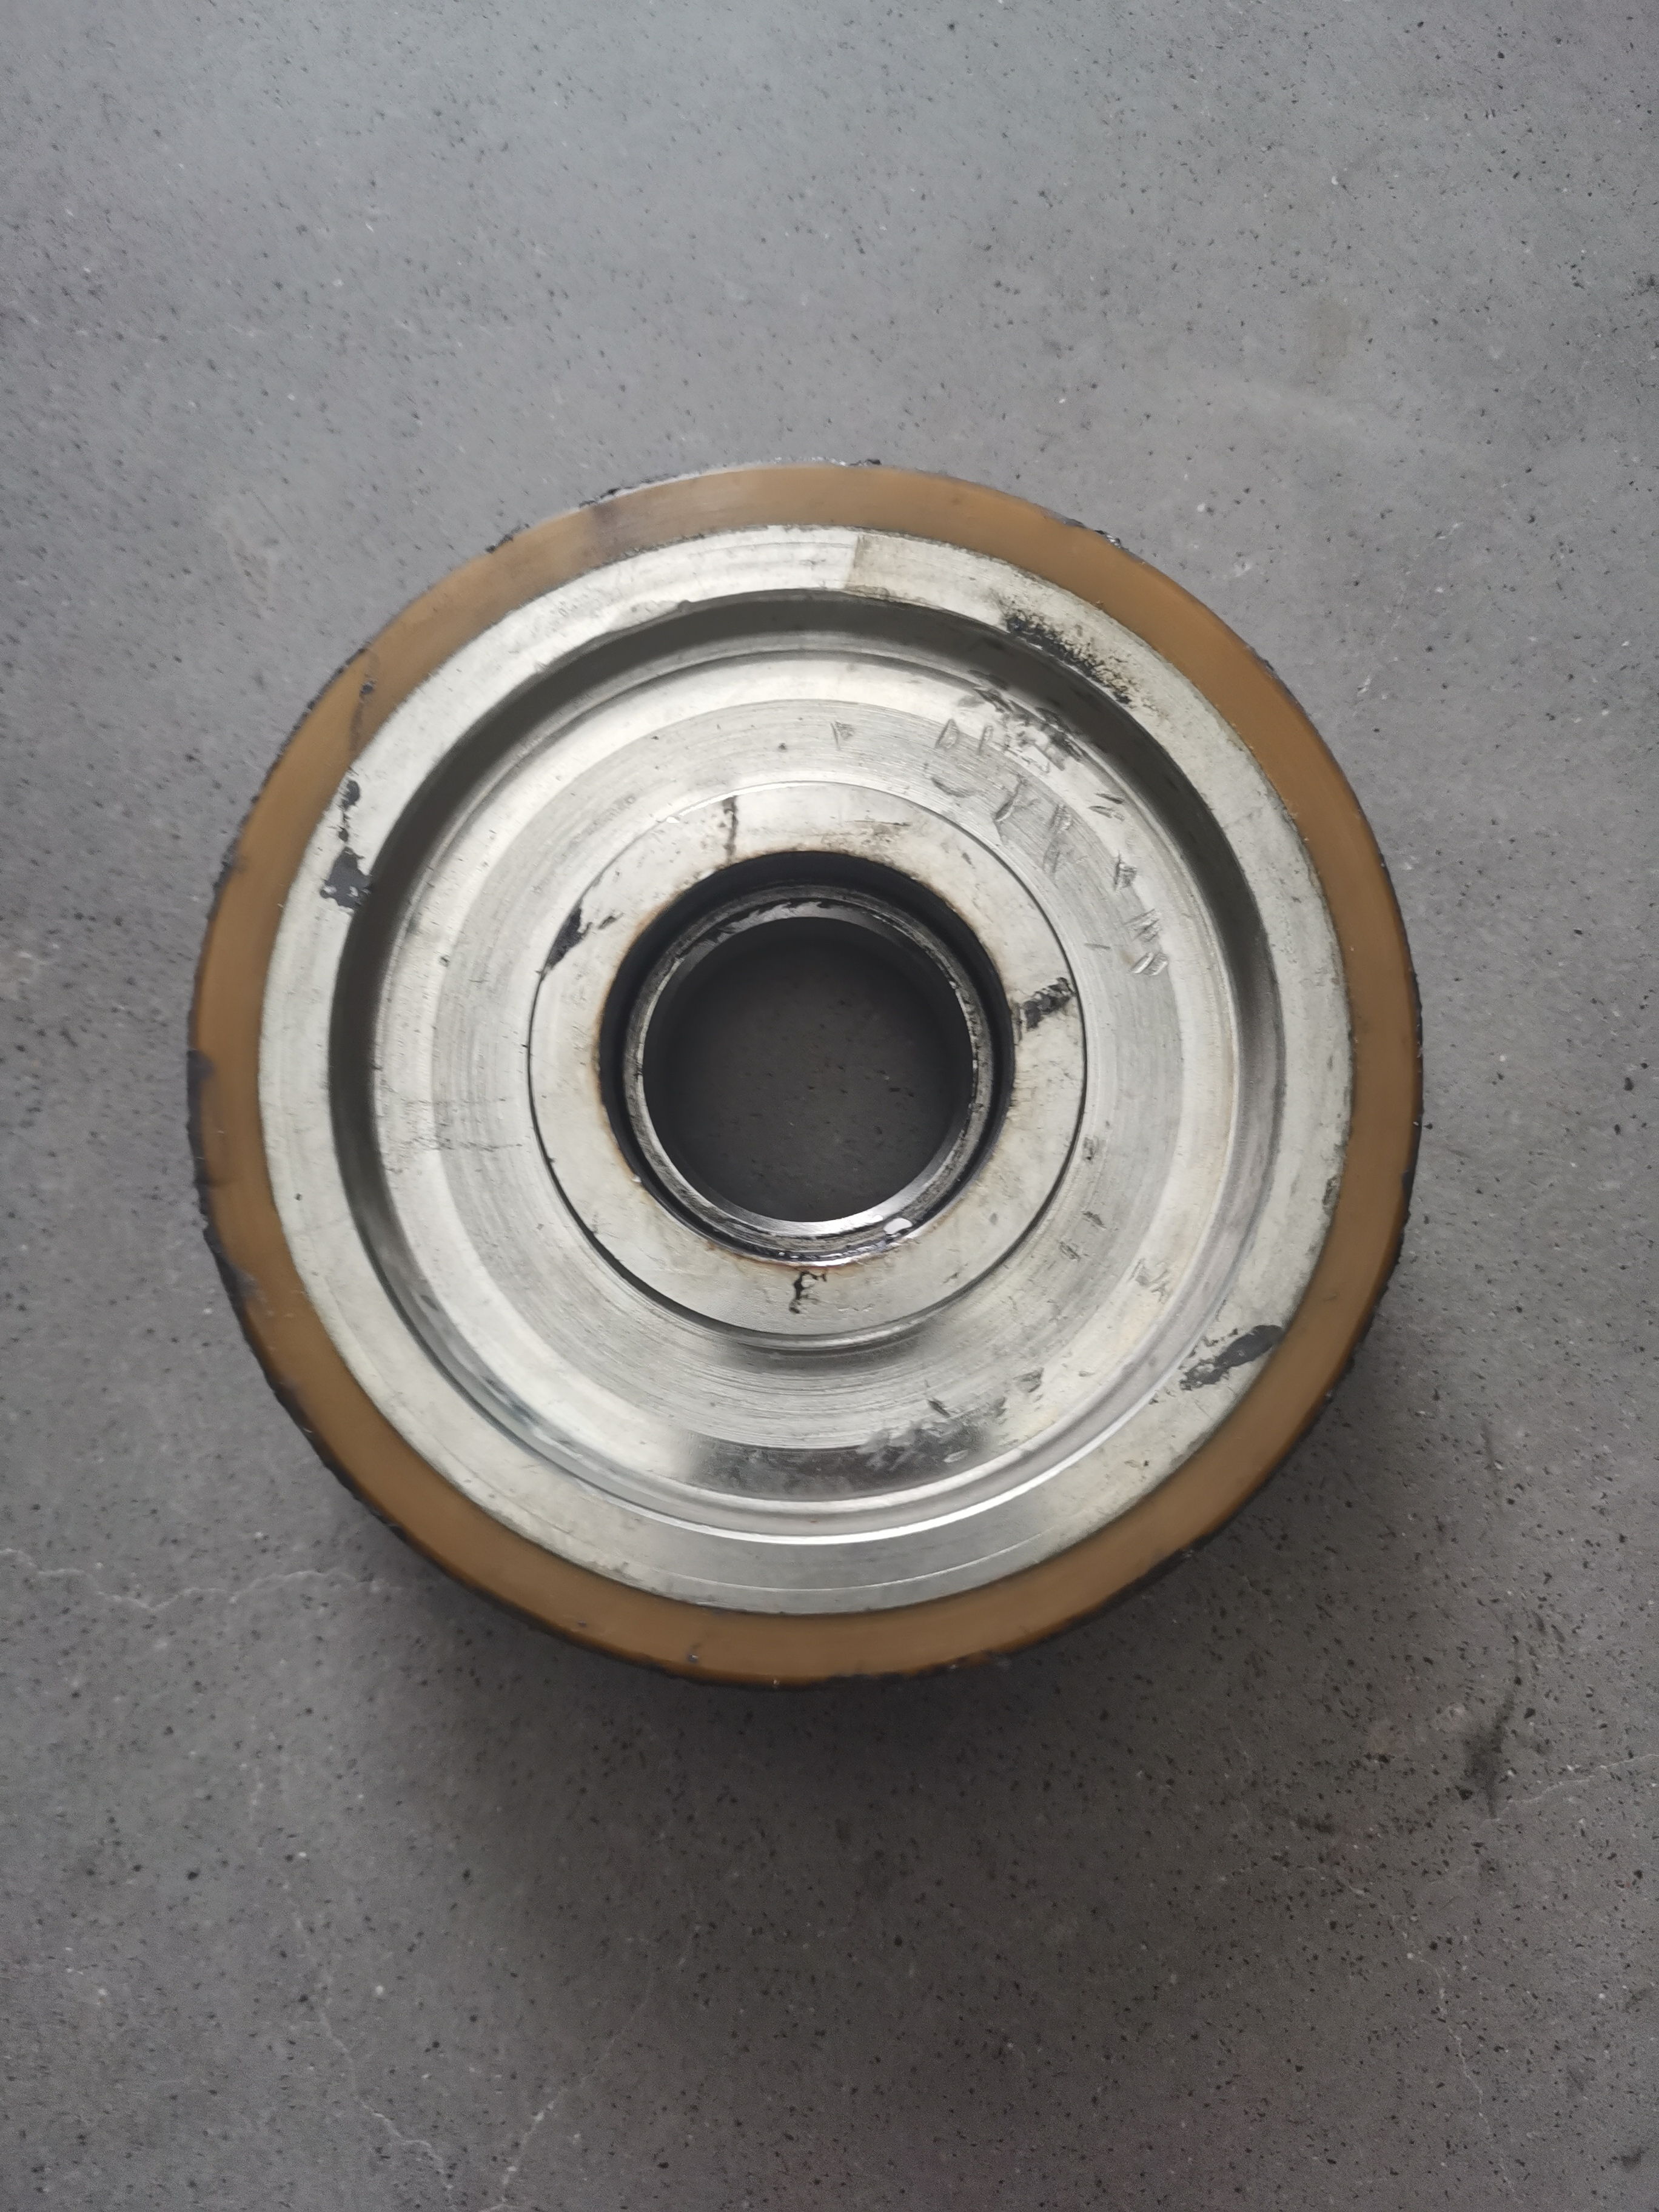bad_wheel: (568, 801, 1084, 1306)
